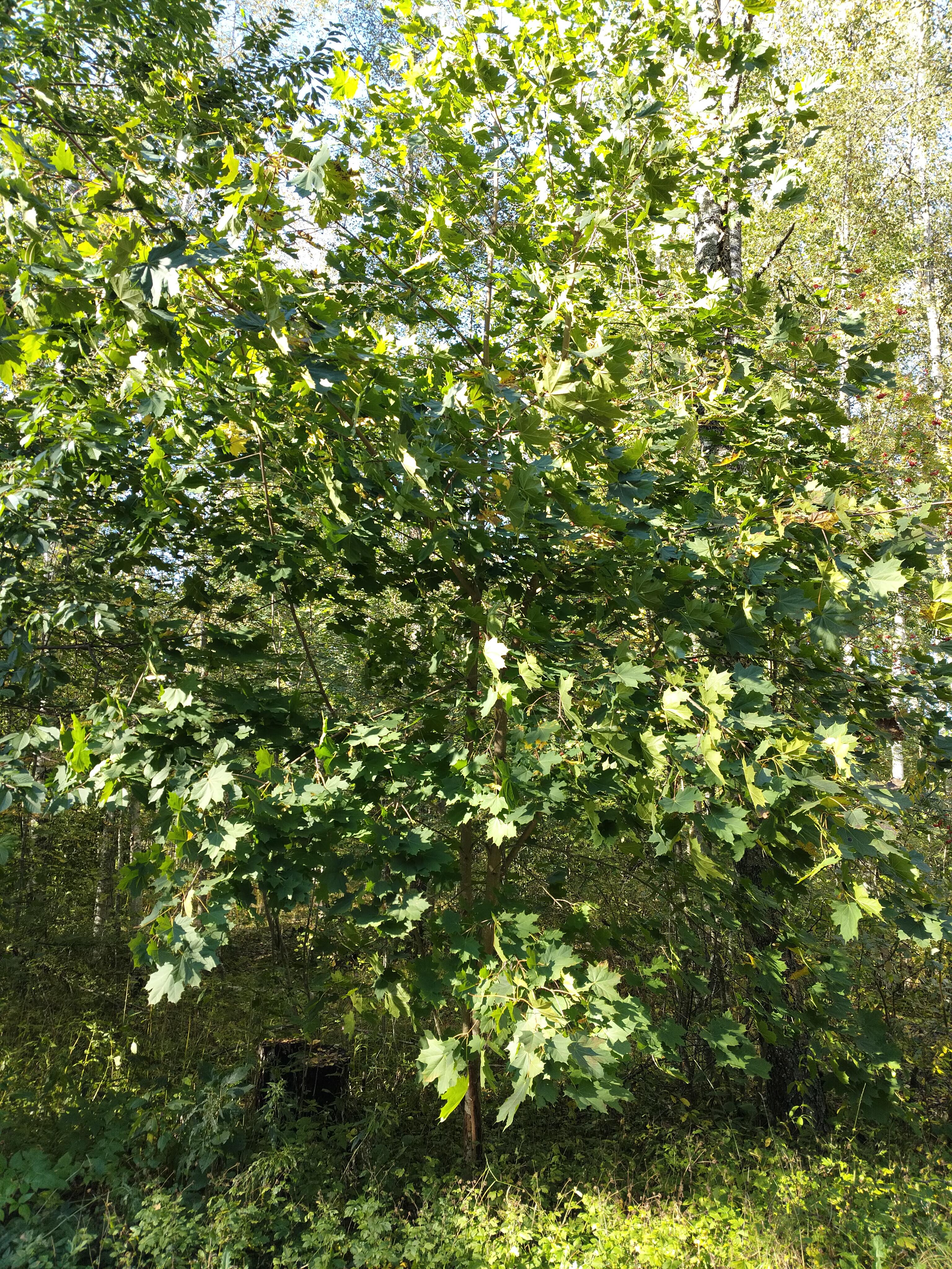Maple: (2, 0, 950, 1158)
